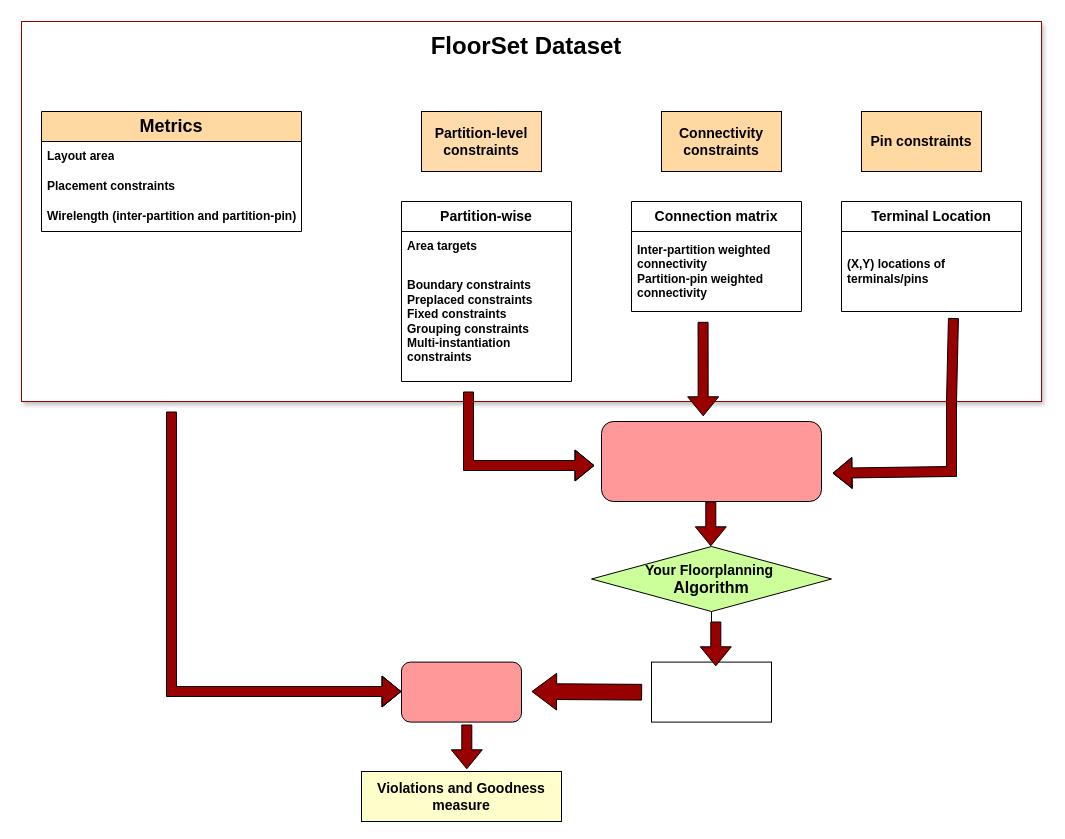
Some shapes in this 1065 by 839 pixel diagram are drawn without their labels. Here are the shapes that lost their labels. From the top down, the centre of each, then its label:
pixel 711 461: DataLoader code (primeloader.py, liteloader.py)
pixel 461 691: Validator code (validate.py)
pixel 711 691: Partition-shapes and locations
